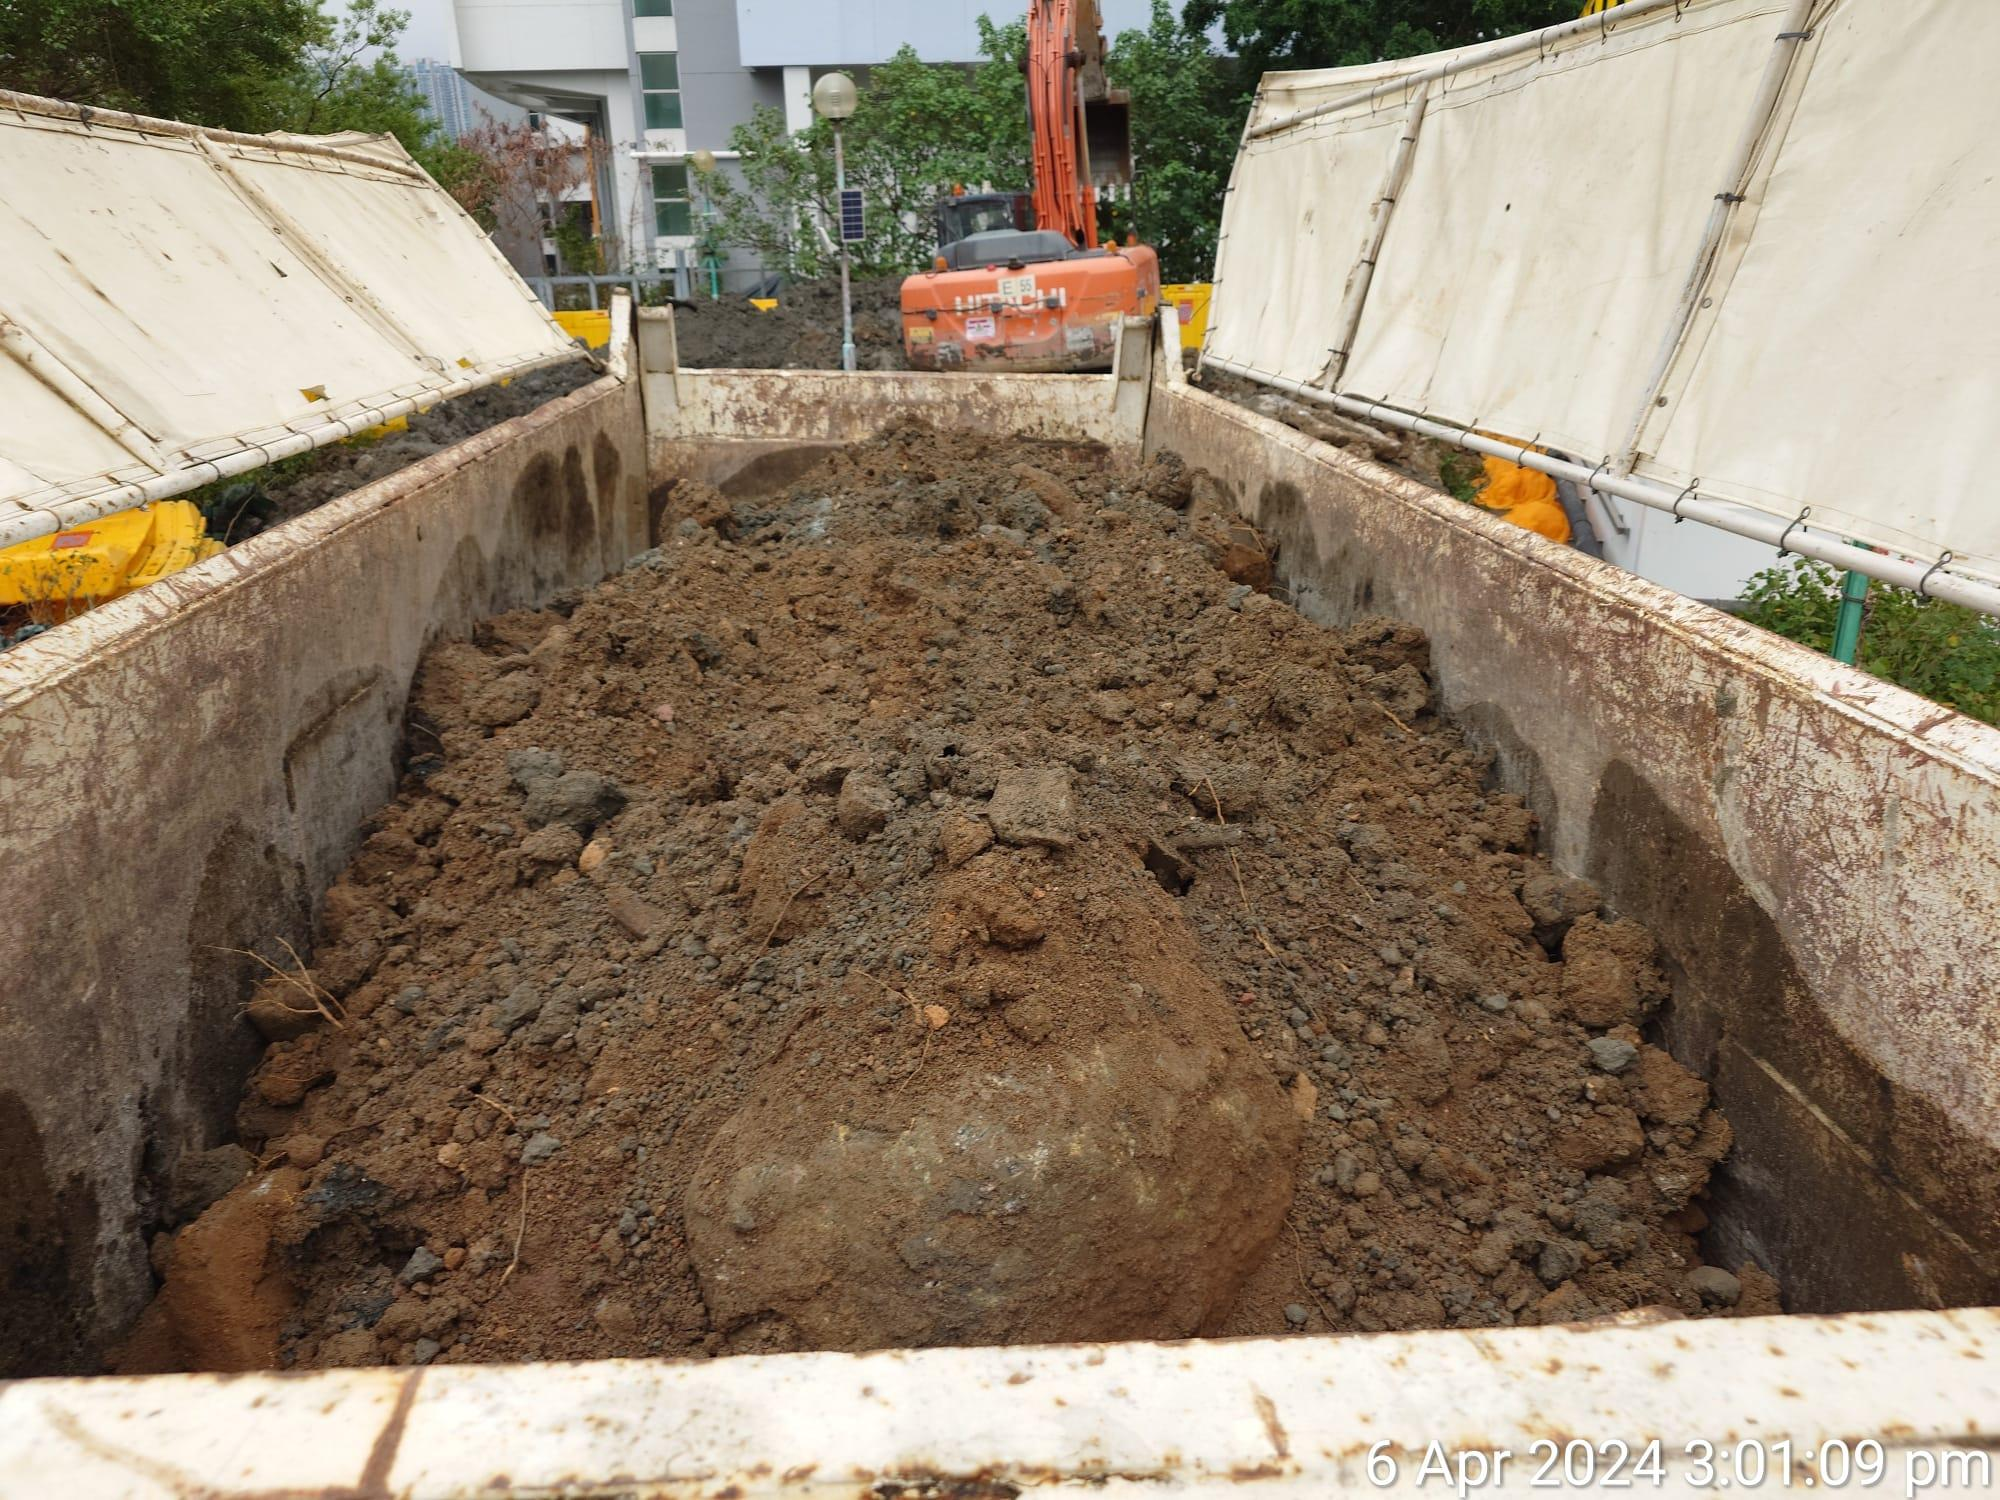dirt: (104, 411, 1769, 1369)
stone: (682, 838, 1309, 1353), (987, 763, 1076, 848)
